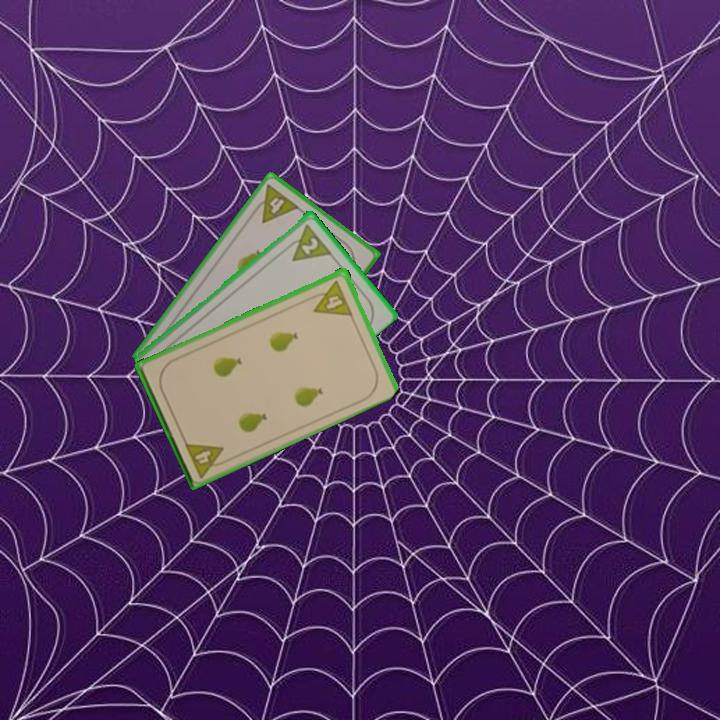2p: (280, 220, 334, 264)
4p: (248, 180, 302, 226), (181, 439, 232, 480), (306, 276, 355, 318)
